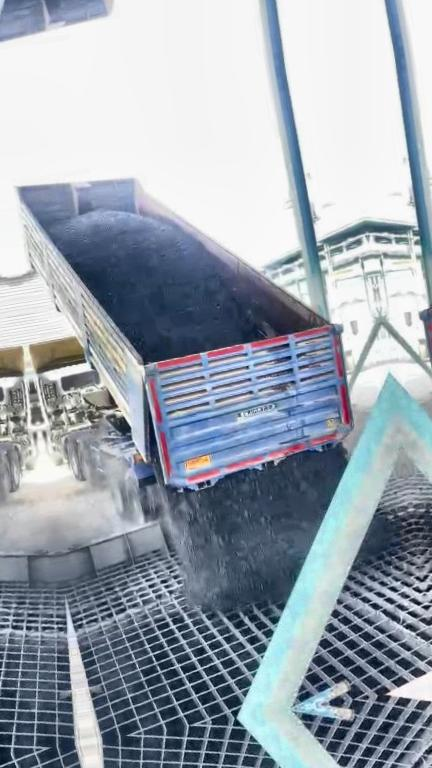gravel: (45, 191, 264, 361), (163, 445, 345, 609), (359, 513, 395, 559)
